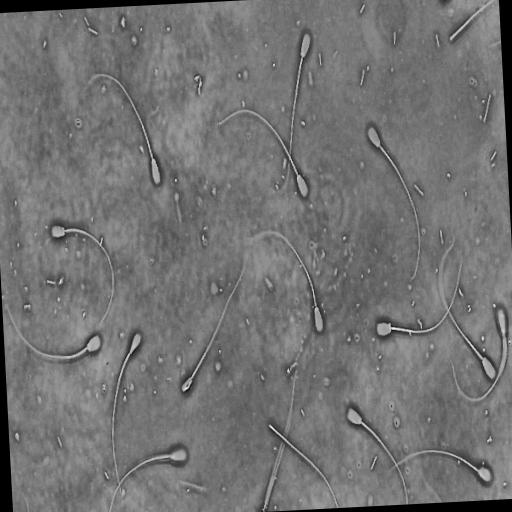loose-tail: (268, 422, 339, 508), (446, 0, 499, 49)
normal: (80, 68, 164, 190), (180, 254, 250, 395), (437, 225, 498, 383), (215, 105, 311, 203), (244, 228, 326, 338), (368, 121, 422, 288), (372, 247, 466, 342), (49, 222, 117, 335), (344, 399, 409, 504), (3, 301, 105, 364), (109, 329, 142, 512), (450, 310, 509, 404), (108, 446, 189, 512), (284, 29, 314, 192), (384, 443, 495, 485)
